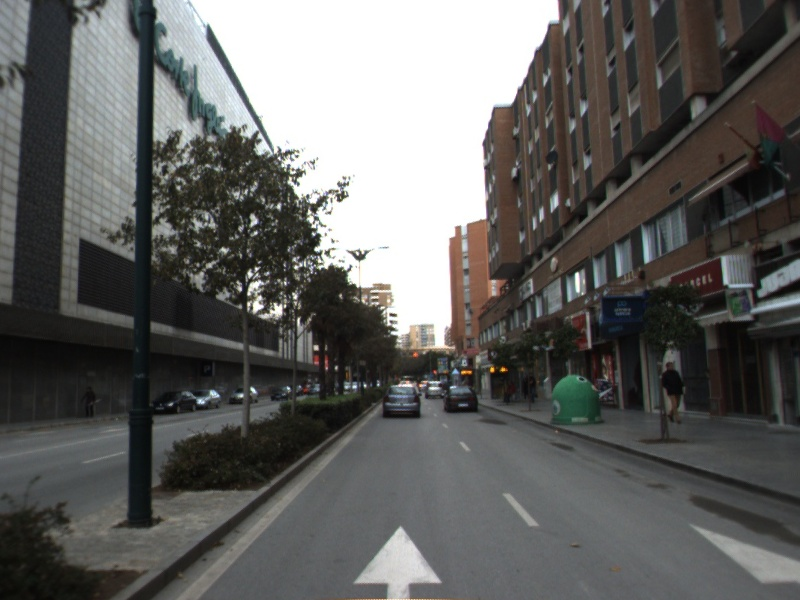STRAIGHT: (348, 520, 447, 600)
